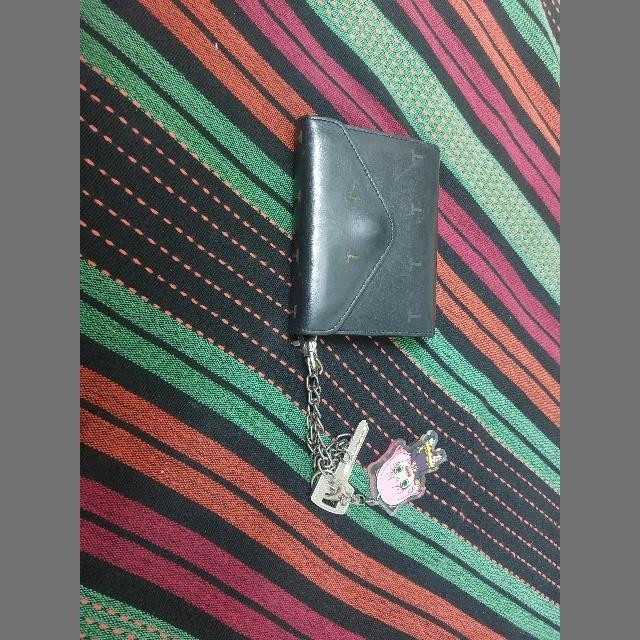Keys: (312, 420, 368, 514)
Wallet: (292, 114, 436, 338)
